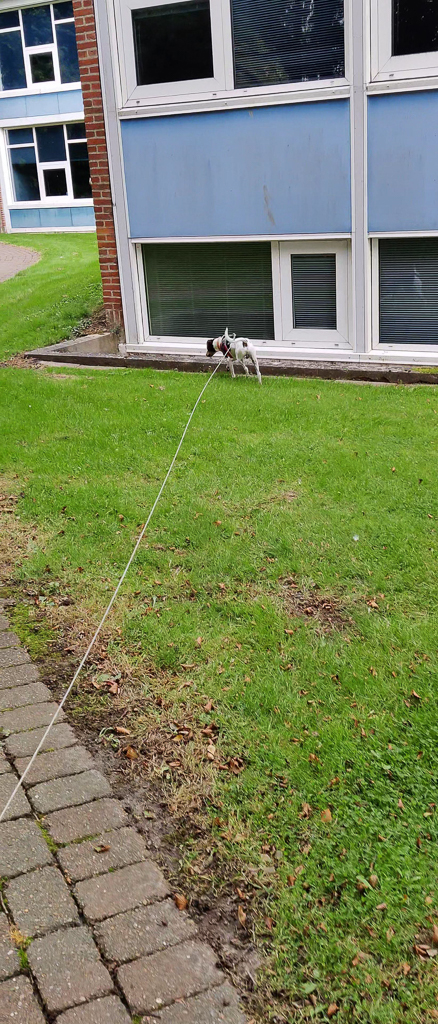Dog: (202, 323, 269, 391)
